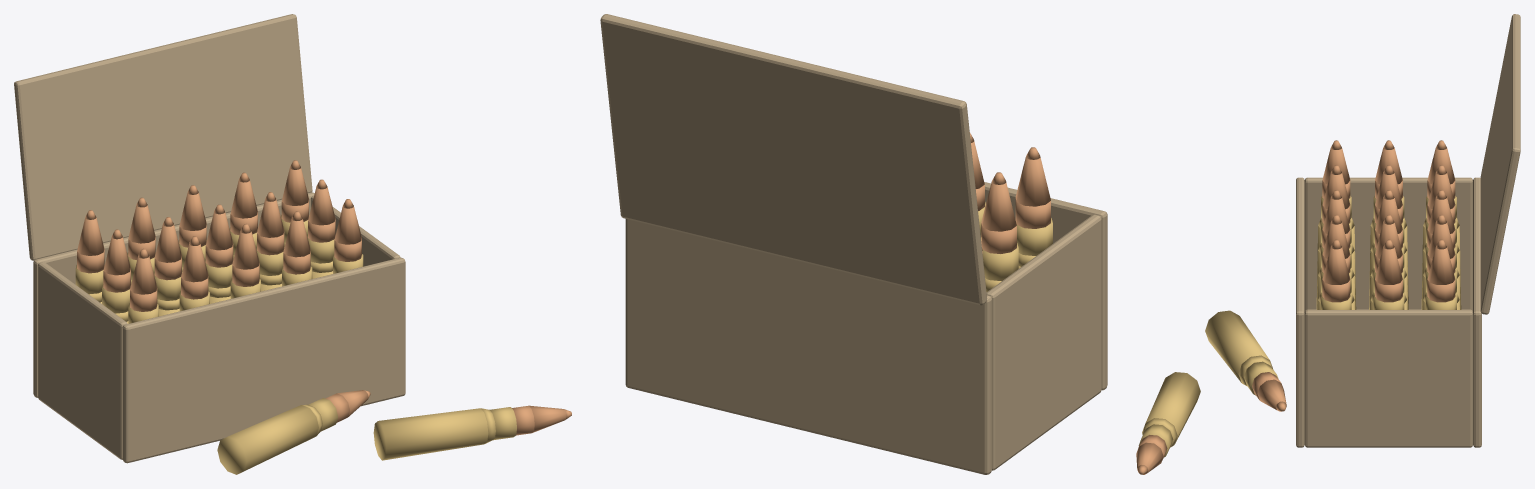
The model's file is Item_ammo_rifle.fbx.
3 renders of one model, left to right at view 1: azimuth 30°, elevation 25°; view 2: azimuth 150°, elevation 25°; view 3: azimuth 270°, elevation 25°, orthographic. The views are drawn at different scales.
Visible parts, largest first — view 1: model.002; view 2: model.002; view 3: model.002.
Part boxes in pixels (x1,y1,x2,y2): model.002: [14, 14, 571, 474]; model.002: [600, 14, 1107, 474]; model.002: [1136, 14, 1520, 474].
Bounding box in the file's own units: 0.118 × 0.0924 × 0.1074.
